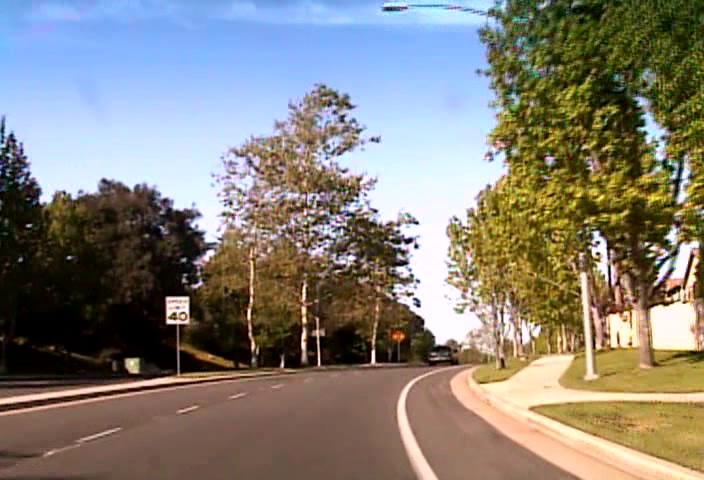speedLimit40: (165, 296, 189, 324)
